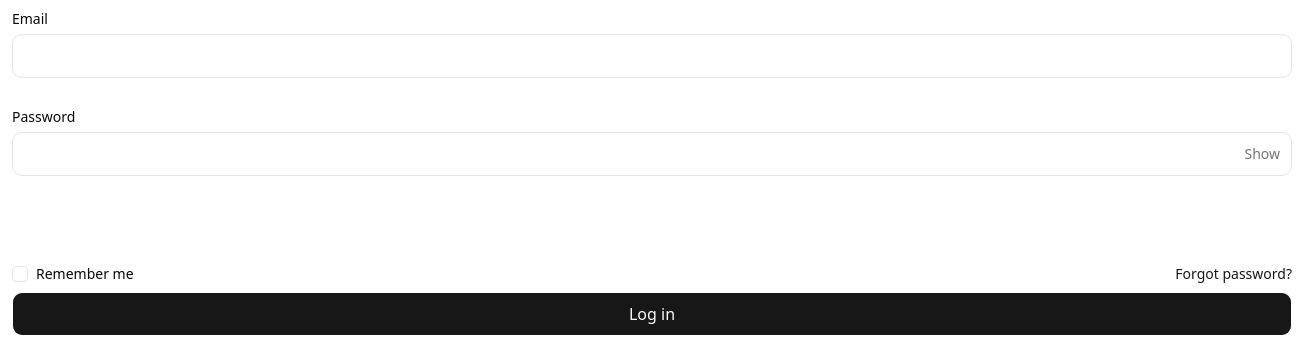
Test: LoginForm › shows validation errors on blur
Click the field labelled "Email". click: (652, 56)
box: [12,34,1292,78]
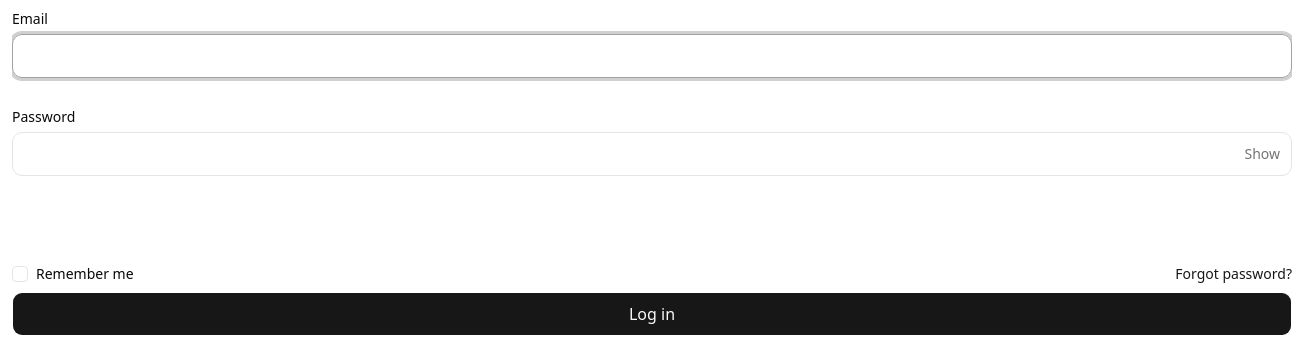
Press Tab
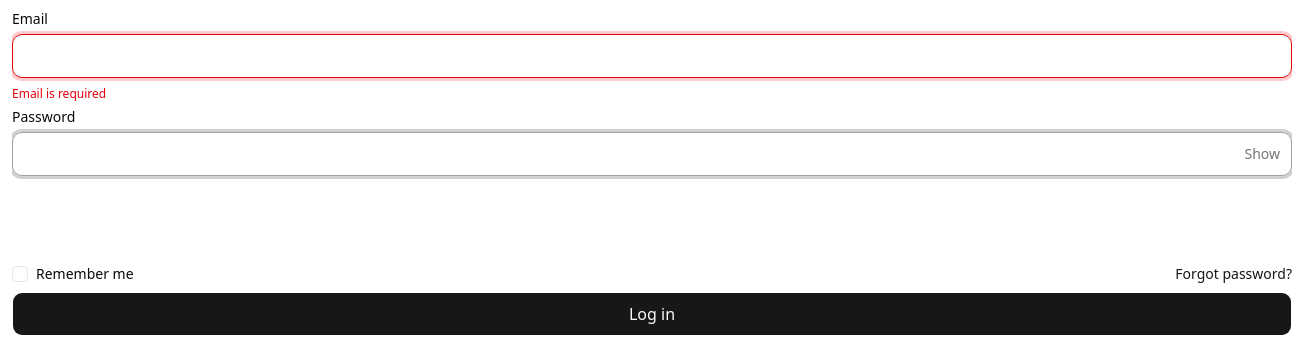
Now the text "Email is required" is shown, box [12,85,106,102]
